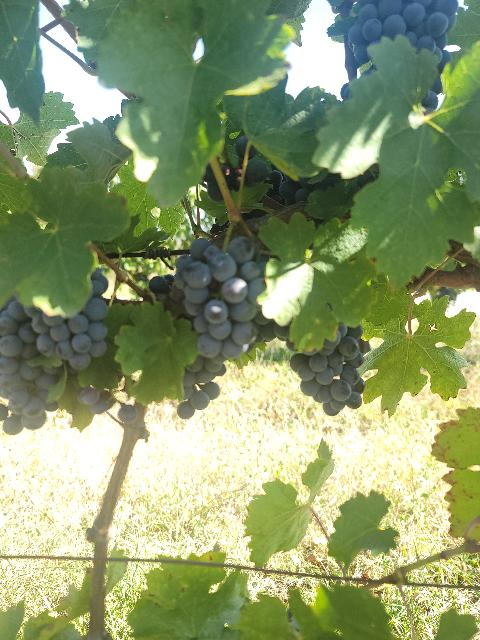grapes: (349, 0, 459, 112), (175, 236, 265, 361), (24, 269, 109, 370), (0, 298, 59, 435), (290, 324, 370, 416)
